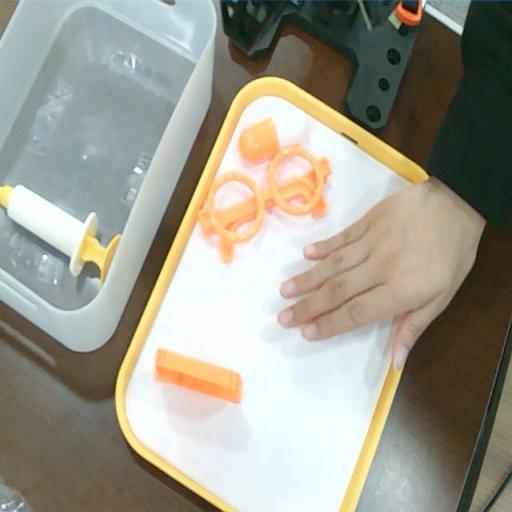hospital: (275, 196, 463, 373)
